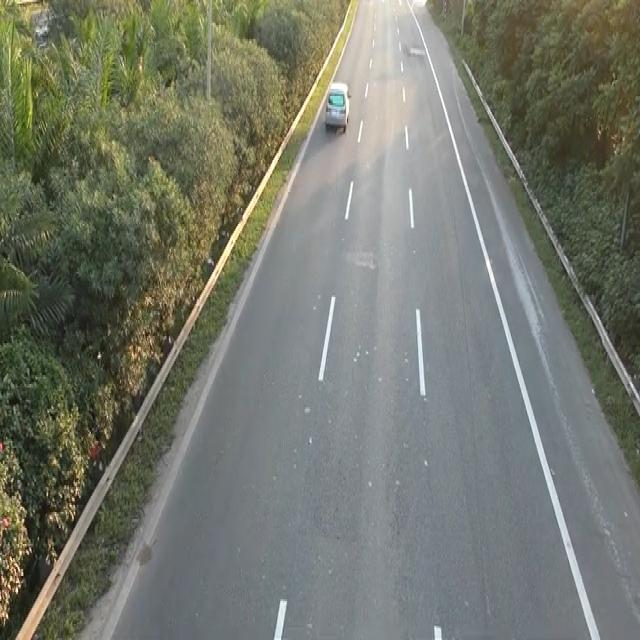lorry: (323, 78, 351, 135)
